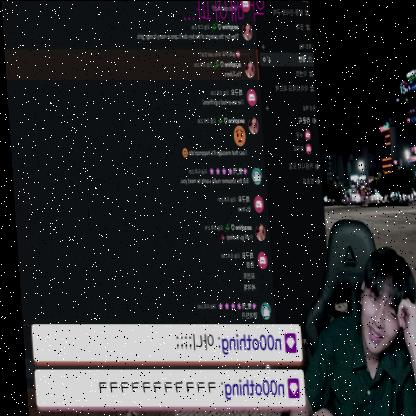streamer: (271, 244, 416, 416)
